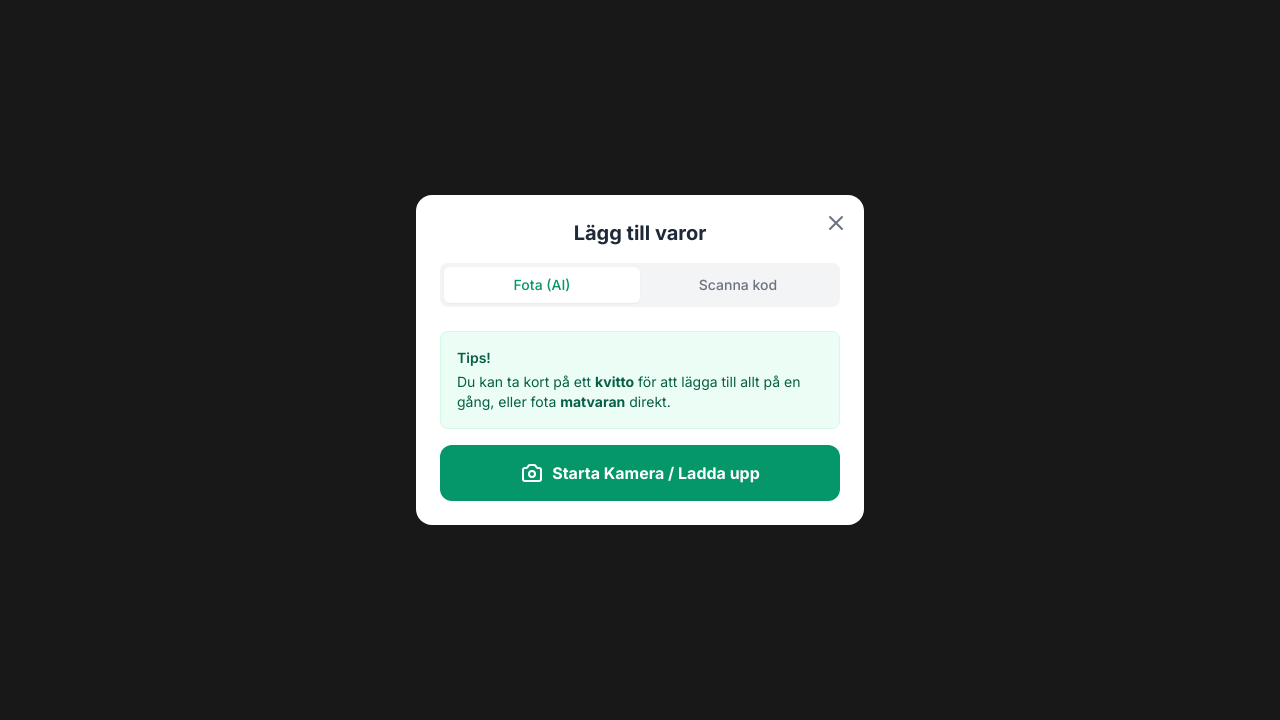
Scanner › shows error when barcode lookup fails
Click the button "Scanna kod" at (738, 285), box [640,267,836,303]
Wait 100 ms
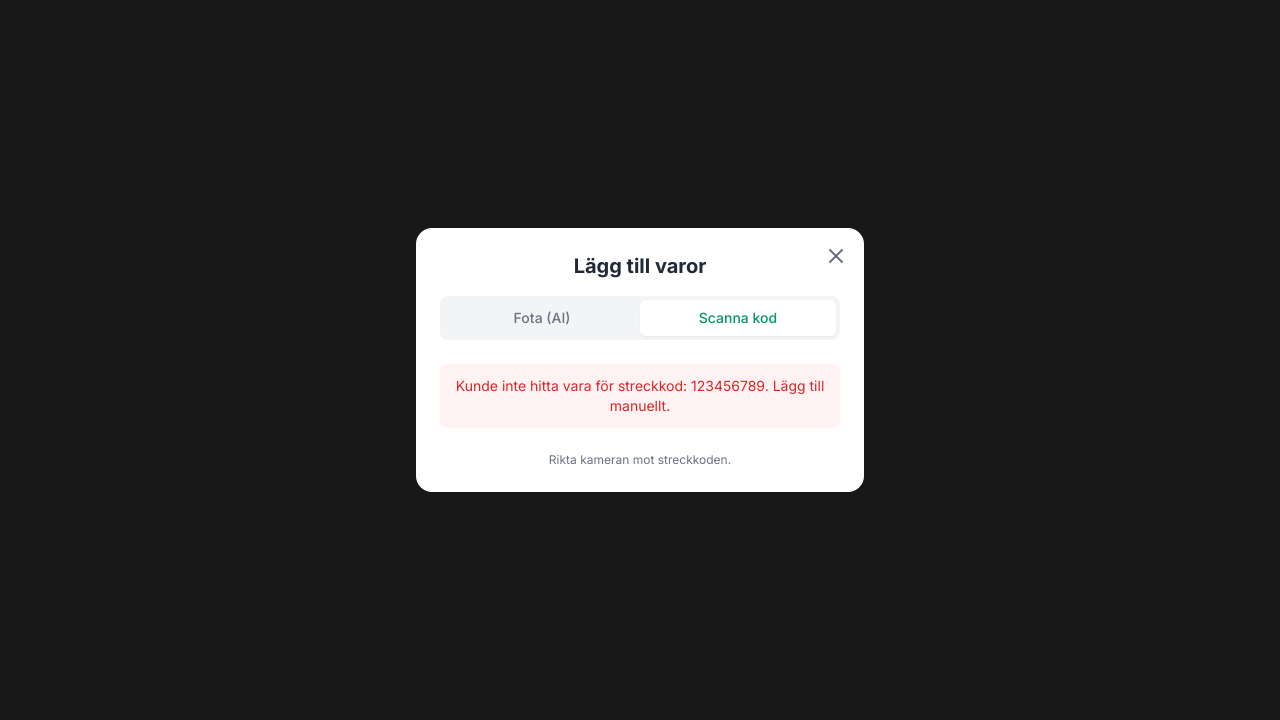
Expected: the text "Kunde inte hitta vara för streckkod: 123456789. Lägg till manuellt." is shown, [440,364,840,428]
